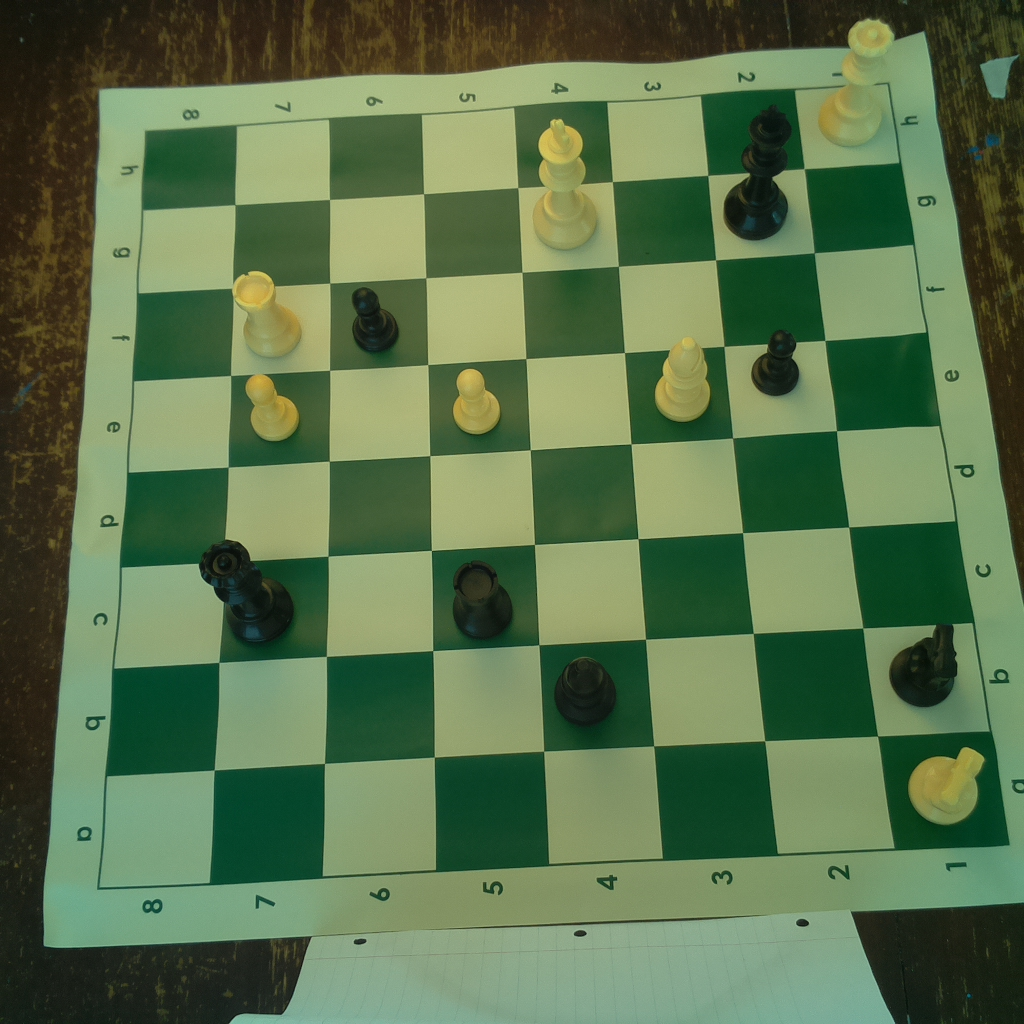black_bishop: (551, 652, 621, 728)
black_king: (719, 95, 794, 238)
black_knight: (884, 608, 960, 710)
black_pawn: (344, 282, 406, 354), (749, 327, 805, 399)
black_queen: (198, 535, 303, 648)
black_rook: (446, 554, 519, 641)
file_a: (97, 731, 1010, 888)
file_b: (106, 621, 990, 777)
file_c: (114, 522, 973, 673)
file_d: (119, 425, 958, 569)
file_e: (129, 332, 941, 475)
file_f: (134, 244, 927, 380)
file_g: (138, 162, 914, 296)
file_h: (142, 84, 903, 212)
outline: (96, 86, 1012, 891)
rank_1: (796, 83, 1007, 851)
rank_2: (702, 87, 896, 856)
rank_3: (606, 93, 779, 861)
rank_4: (515, 97, 667, 864)
rank_5: (421, 106, 549, 873)
rank_6: (320, 114, 437, 873)
rank_7: (207, 121, 328, 886)
rank_8: (96, 126, 237, 883)
white_bishop: (654, 332, 714, 425)
white_king: (527, 115, 605, 251)
white_knight: (906, 741, 988, 828)
white_pawn: (240, 370, 303, 441), (450, 361, 502, 438)
white_queen: (816, 12, 899, 148)
white_rook: (229, 269, 306, 360)
